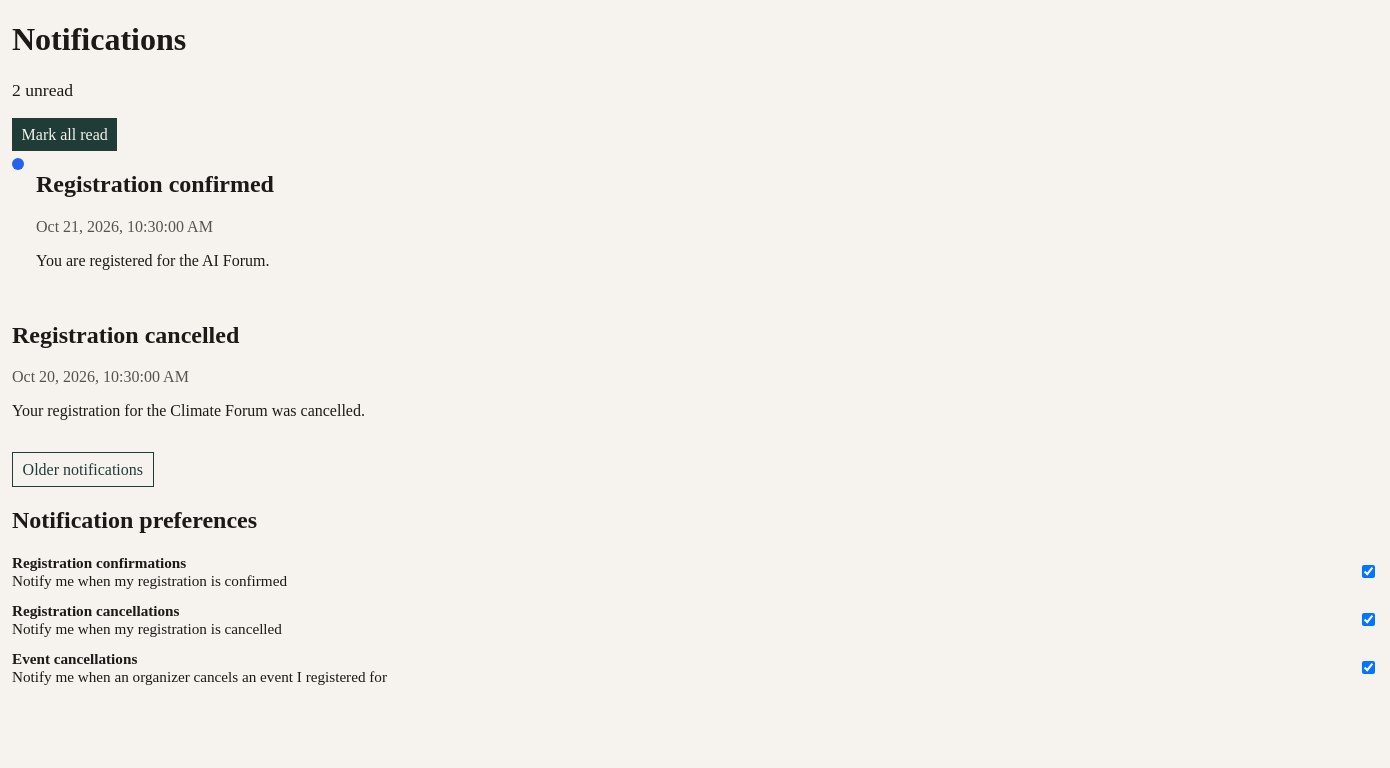
NotificationsComponent › disables mark all until the response clears every dot
The width and height of the screenshot is (1390, 768).
Step 1. Click the button "Mark all read" → (65, 135), box [12,118,117,151]
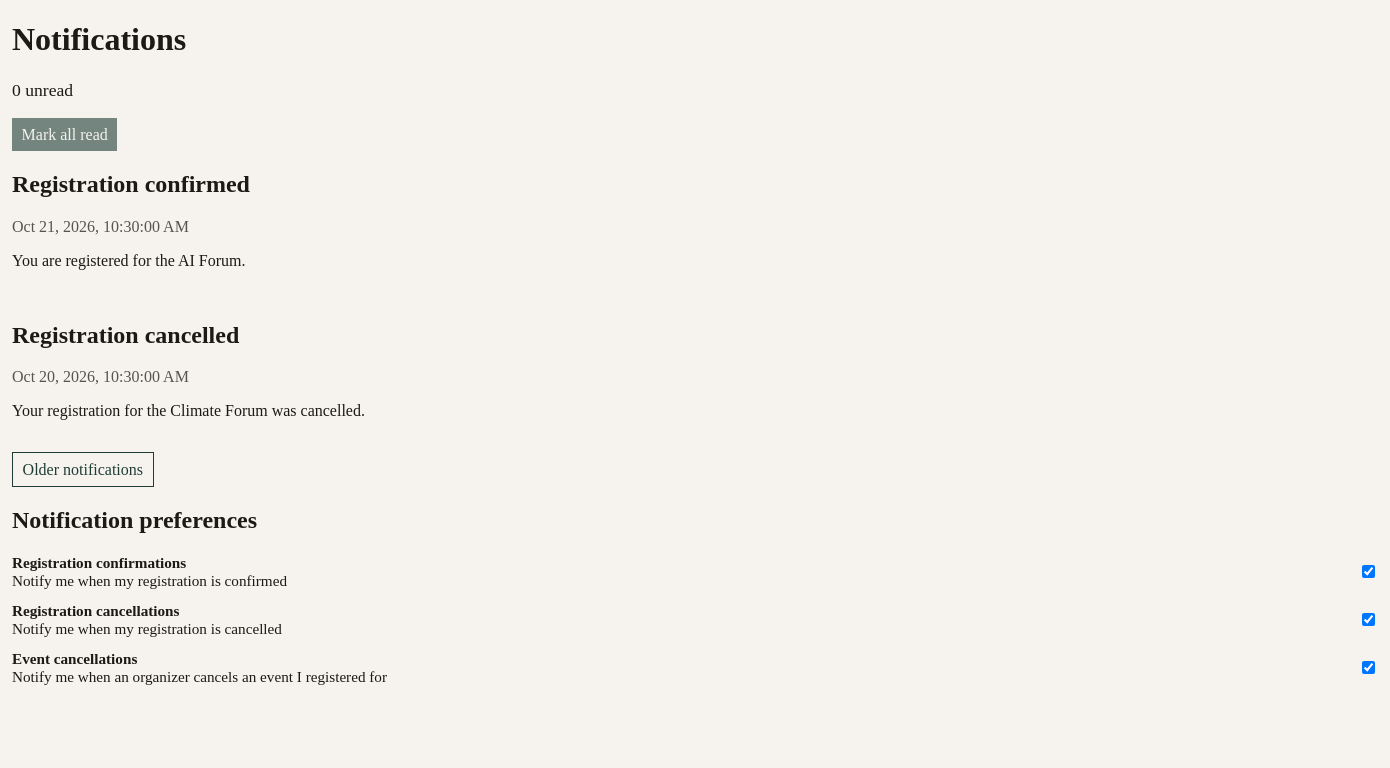
Now the button with class "unread-dot" is gone
Now the text "0 unread" is shown, box [12,80,73,100]
Now the button "Mark all read" is disabled, box [12,118,117,151]
